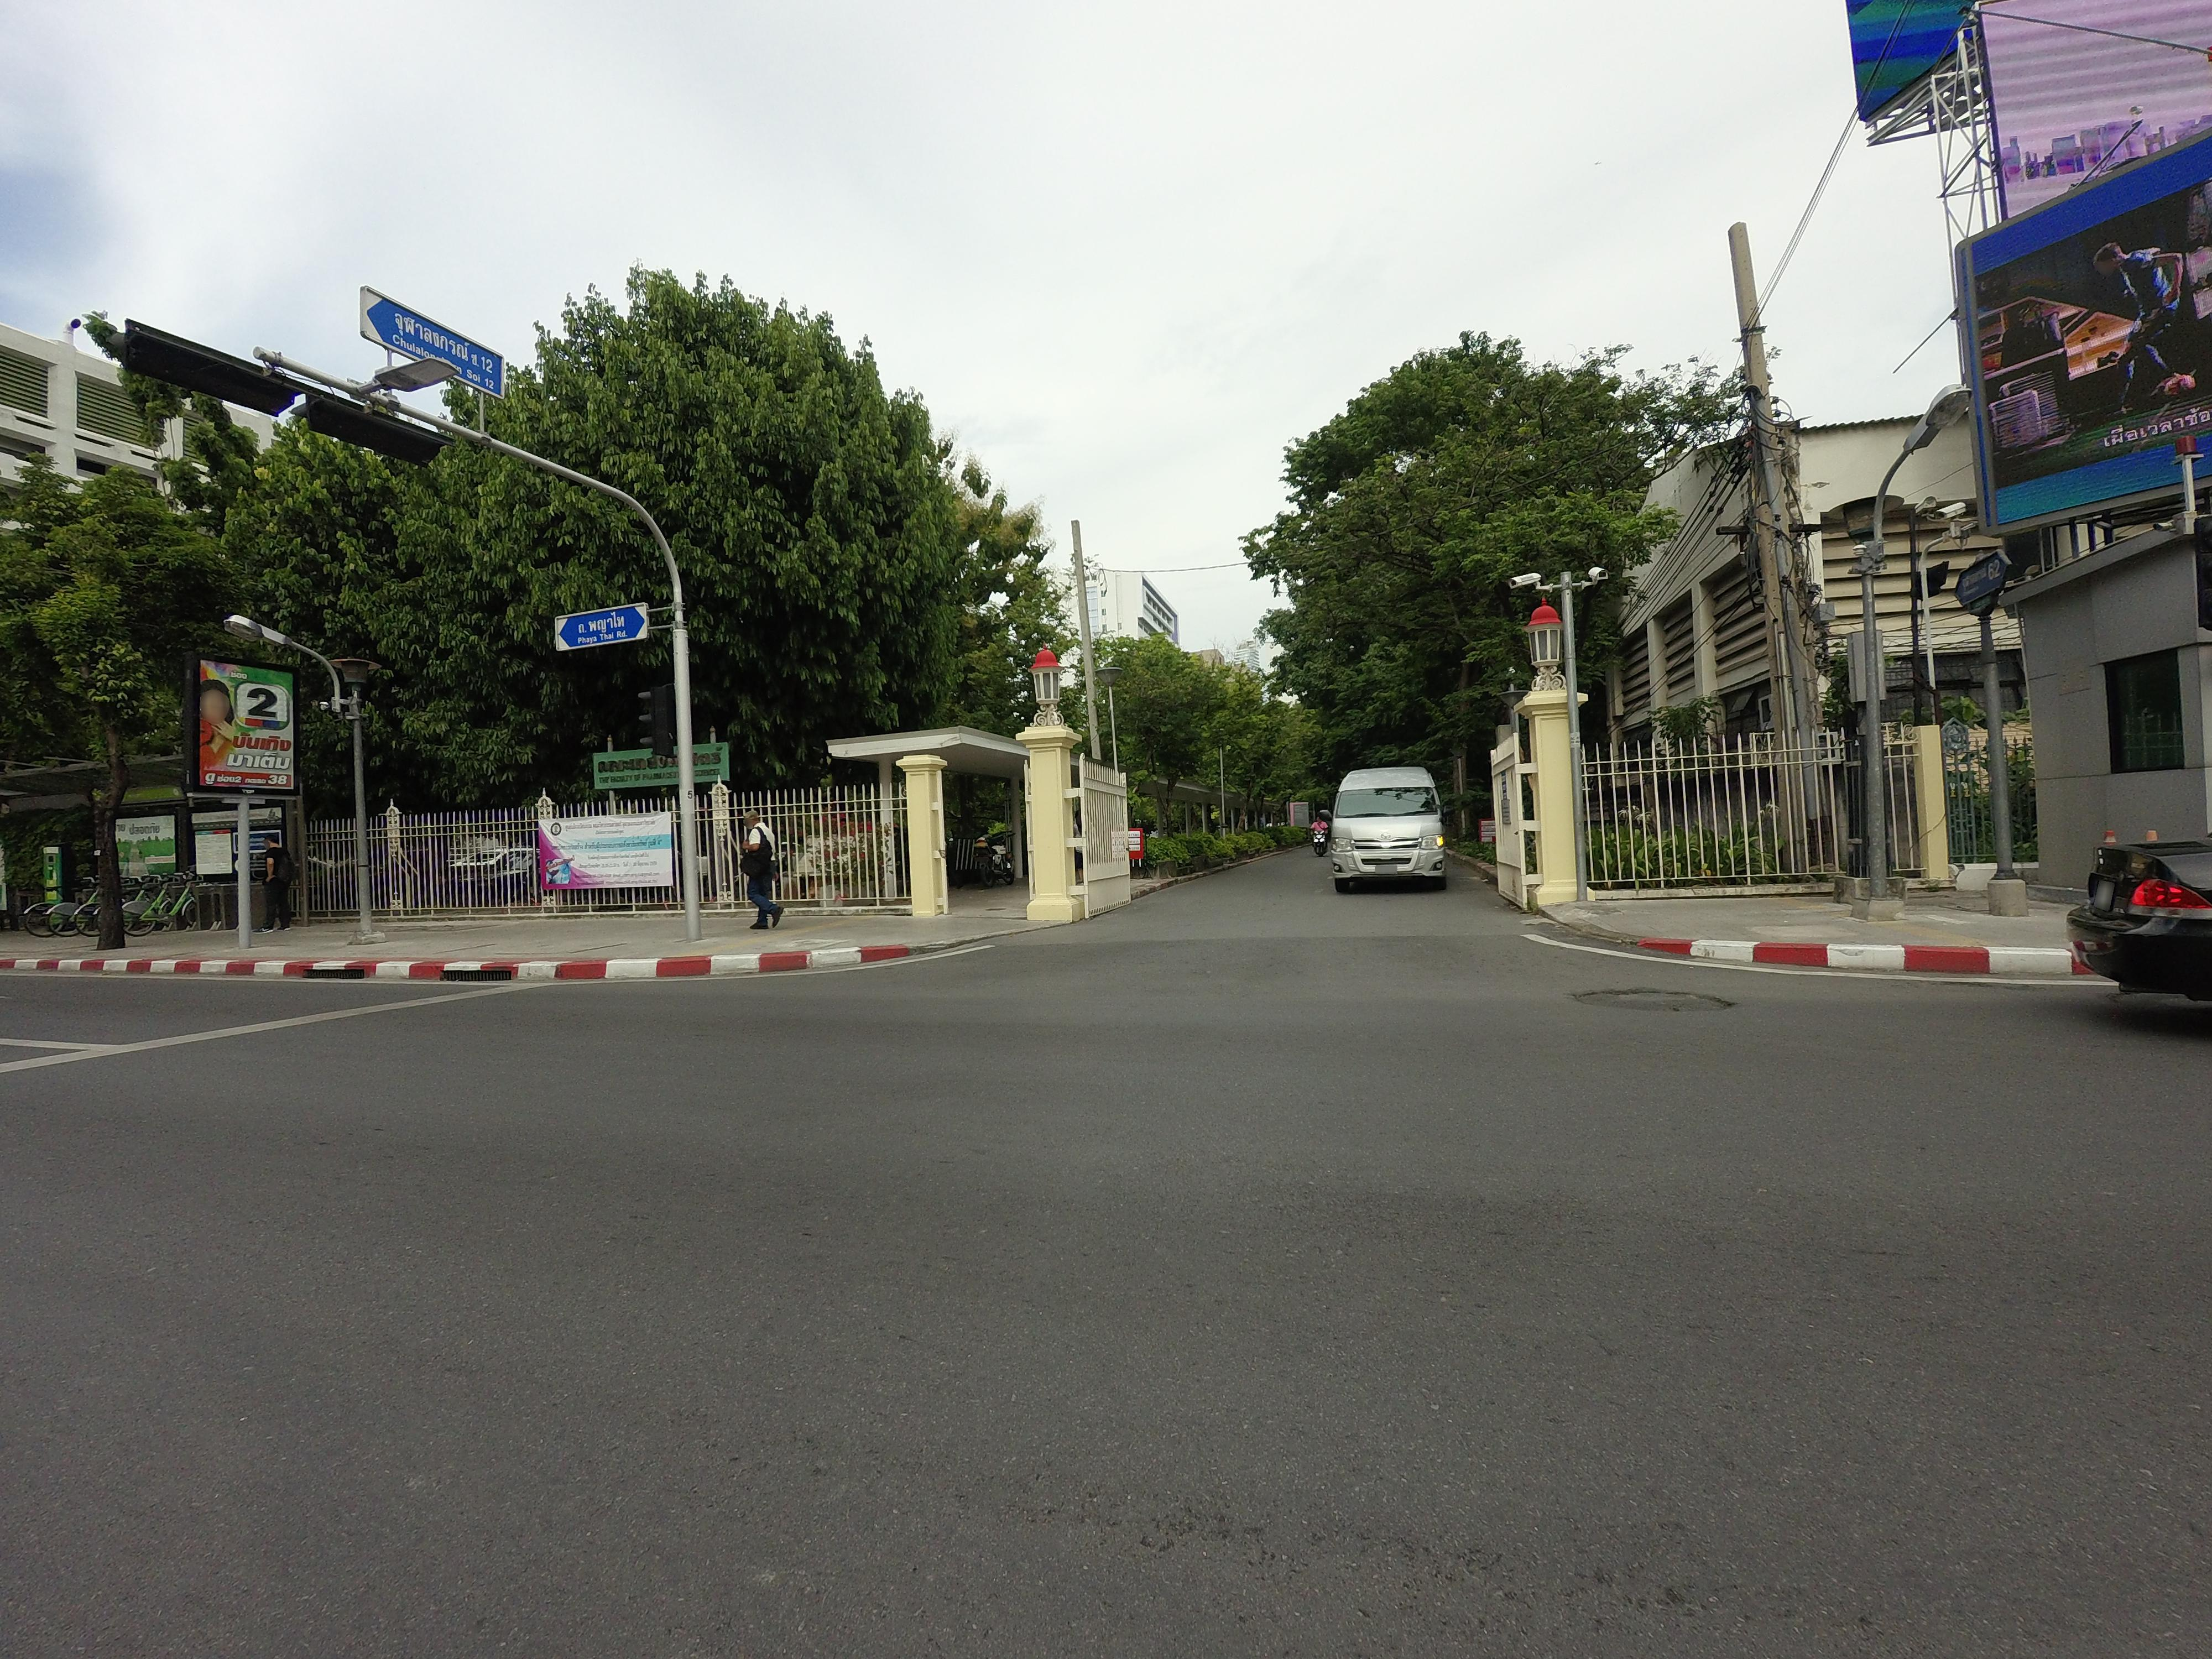vinyl banner: (523, 802, 702, 904), (105, 800, 192, 885)
